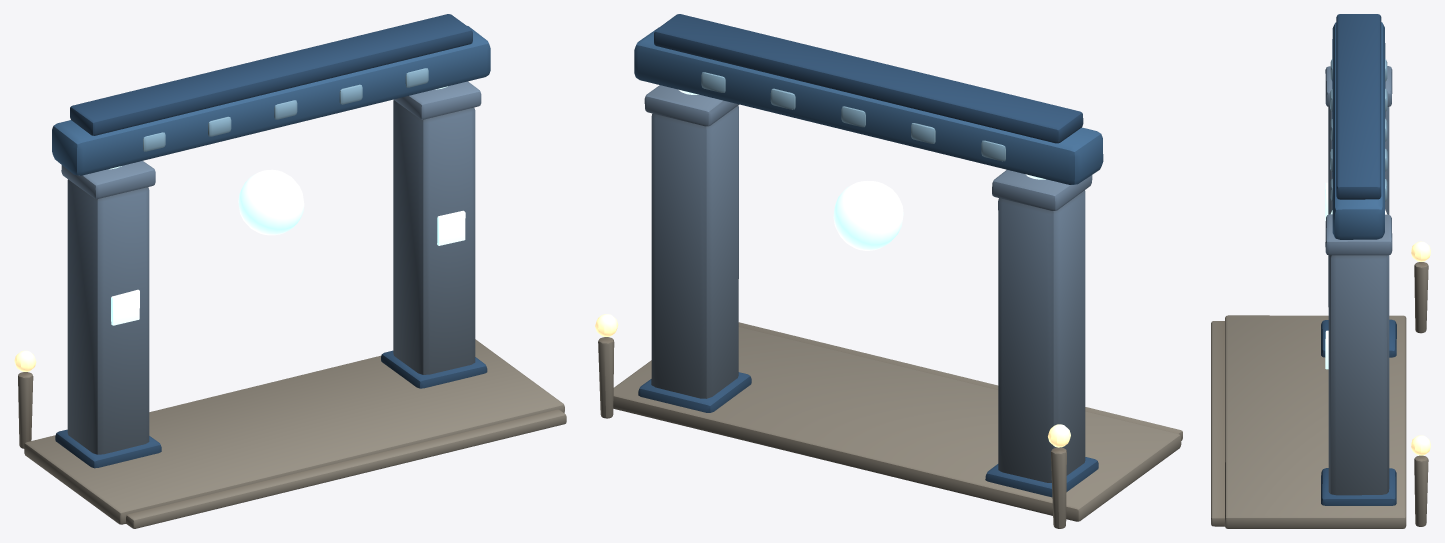
The picture shows the model from 3 angles, left to right: view 1: azimuth 30°, elevation 25°; view 2: azimuth 150°, elevation 25°; view 3: azimuth 270°, elevation 25°; orthographic projection. The views are drawn at different scales.
Visible parts, largest first — view 1: gate_a8124005; view 2: gate_a8124005; view 3: gate_a8124005.
Part boxes in pixels (left/top/right/bottom): gate_a8124005: left=14, top=14, right=566, bottom=528; gate_a8124005: left=595, top=14, right=1182, bottom=528; gate_a8124005: left=1211, top=14, right=1430, bottom=528.
Bounding box in the file's own units: 5.56 × 4.2 × 2.54.
